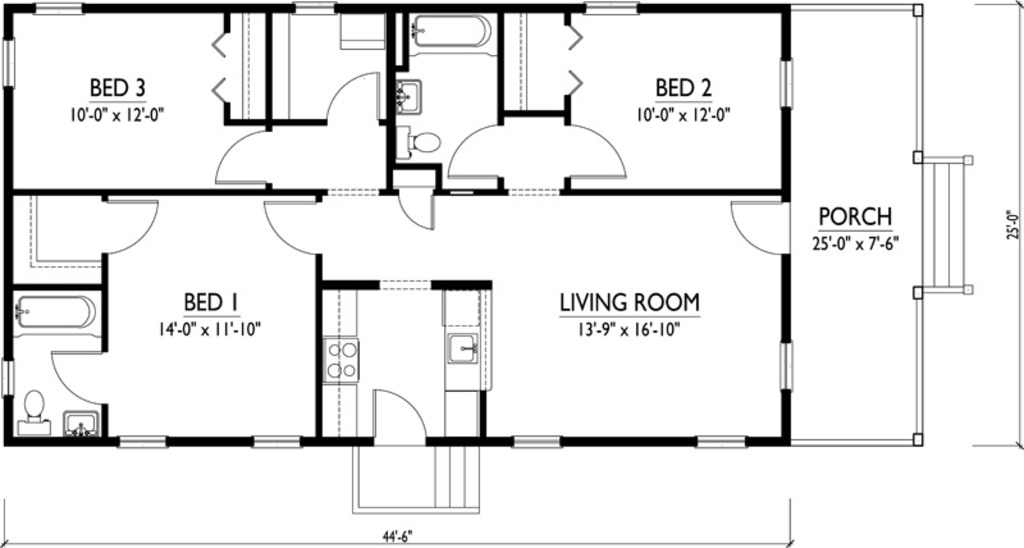door: (567, 124, 631, 179), (727, 199, 789, 254), (370, 388, 427, 447), (446, 122, 501, 182), (263, 198, 316, 256), (212, 129, 267, 184), (103, 197, 158, 252), (324, 70, 382, 120), (393, 188, 437, 231)
large_sink: (394, 121, 441, 163), (17, 387, 52, 435)
small_sink: (58, 410, 106, 440), (395, 76, 424, 115)
tub: (12, 286, 103, 339), (406, 11, 499, 59)
windows: (694, 433, 746, 452), (582, 3, 640, 20), (779, 56, 797, 109), (248, 433, 307, 448), (1, 37, 16, 90), (114, 435, 169, 449), (780, 342, 795, 391), (35, 1, 80, 16), (514, 435, 562, 449), (1, 356, 16, 395), (289, 1, 333, 14)
